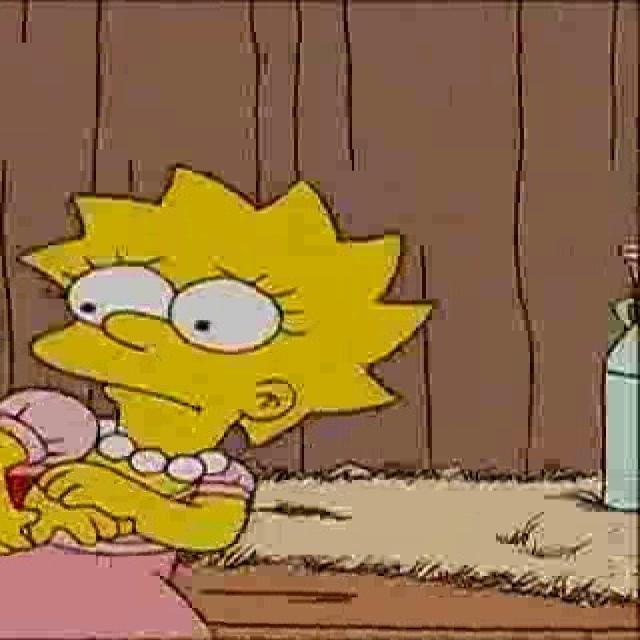Lisa Simpson: (15, 160, 445, 472)
